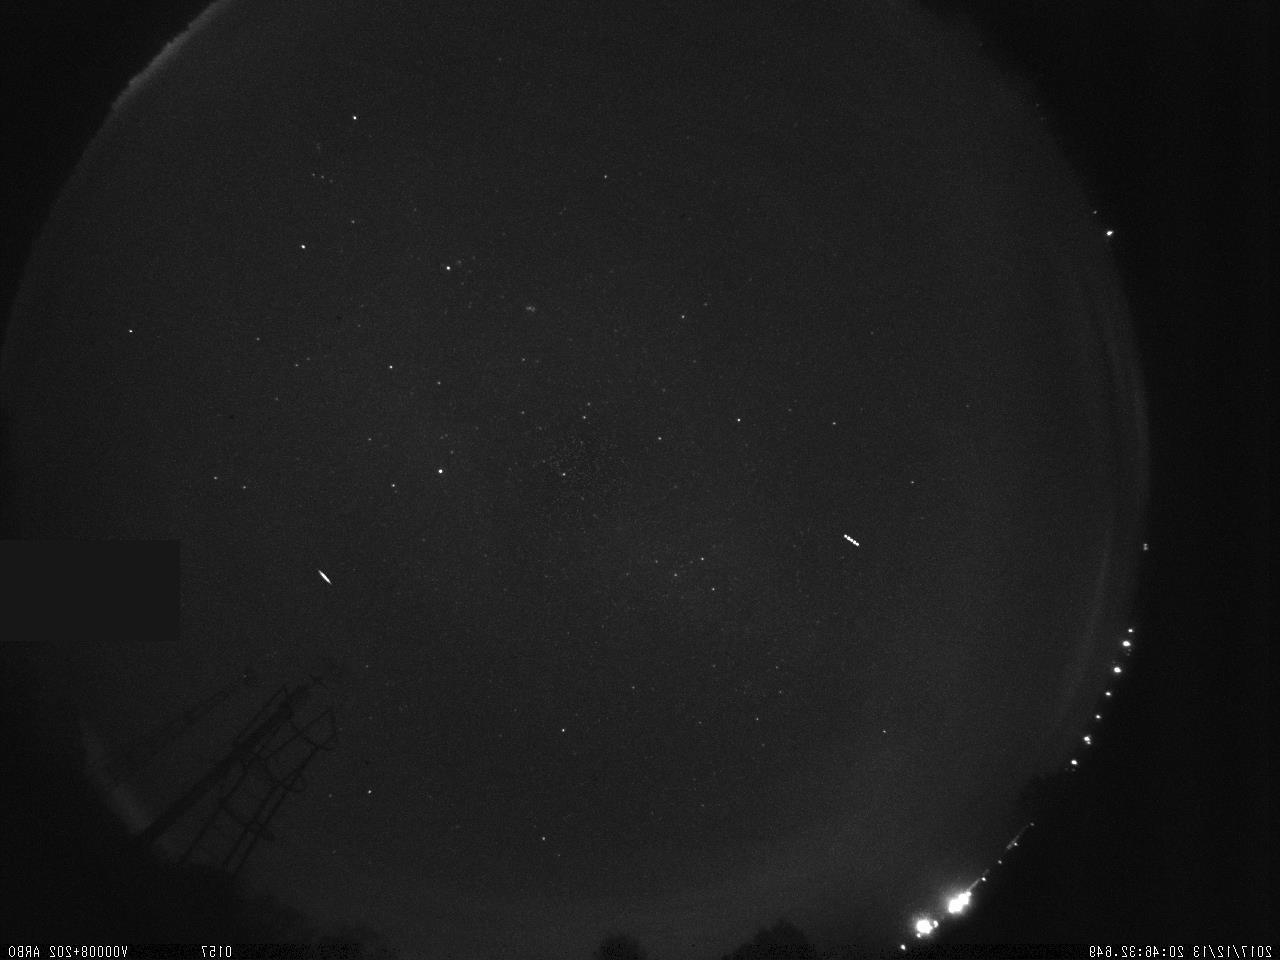meteor: (311, 563, 339, 594)
satelite: (838, 524, 865, 553)
